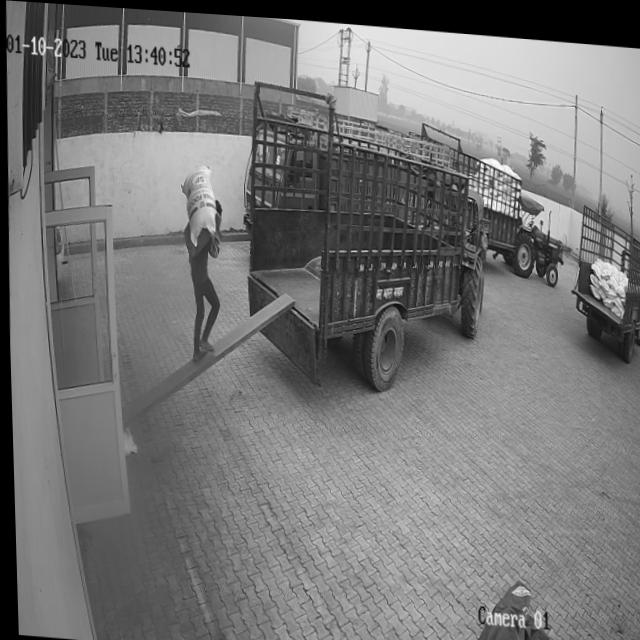sack: (178, 160, 216, 246)
